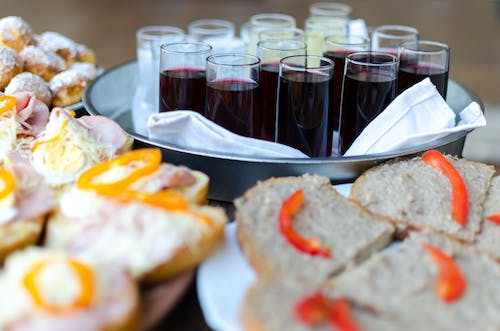alcohol: (337, 50, 401, 156), (274, 54, 336, 158), (256, 38, 308, 143), (205, 52, 262, 141), (321, 34, 369, 133), (157, 40, 212, 122), (371, 25, 420, 95), (399, 40, 451, 103)
